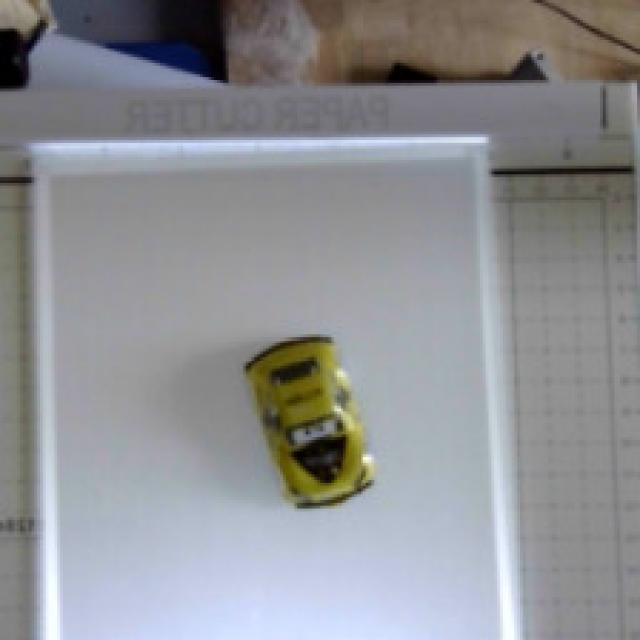Yellow Car: (205, 297, 407, 566)
